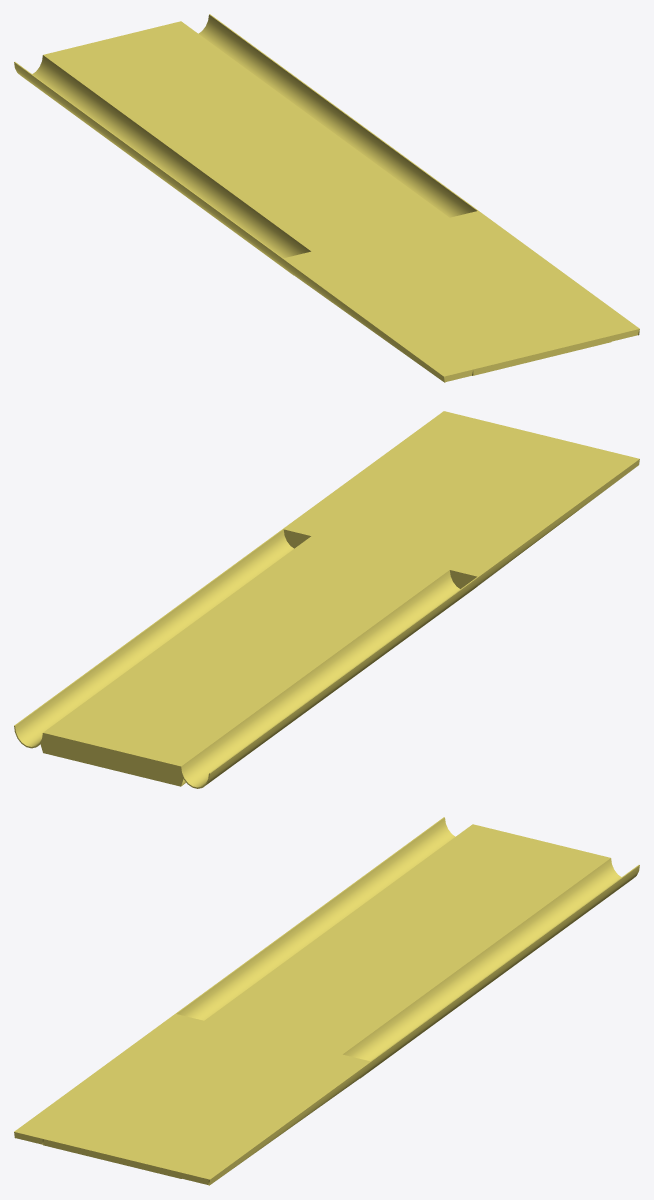
File: Ob_Bowling_Floor.FBX
The picture shows the model from 3 angles, top to bottom: view 1: azimuth 30°, elevation 25°; view 2: azimuth 150°, elevation 25°; view 3: azimuth 330°, elevation 25°; orthographic projection.
Parts seen in each view (by area): view 1: Cylinder001; view 2: Cylinder001; view 3: Cylinder001.
Boxes of the visible parts, left/top/right/bottom form: Cylinder001: left=14, top=14, right=639, bottom=382; Cylinder001: left=14, top=411, right=639, bottom=788; Cylinder001: left=14, top=817, right=639, bottom=1185.
Bounding box in the file's own units: 4.46 × 0.4397 × 16.92.
